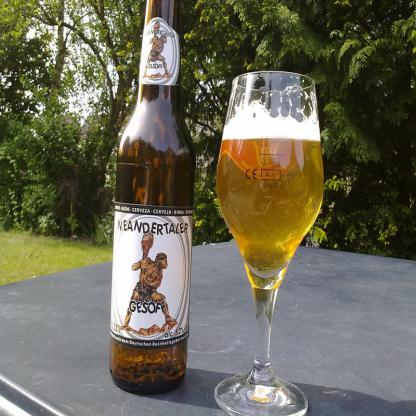drinking: (214, 71, 324, 416), (109, 0, 196, 395)
